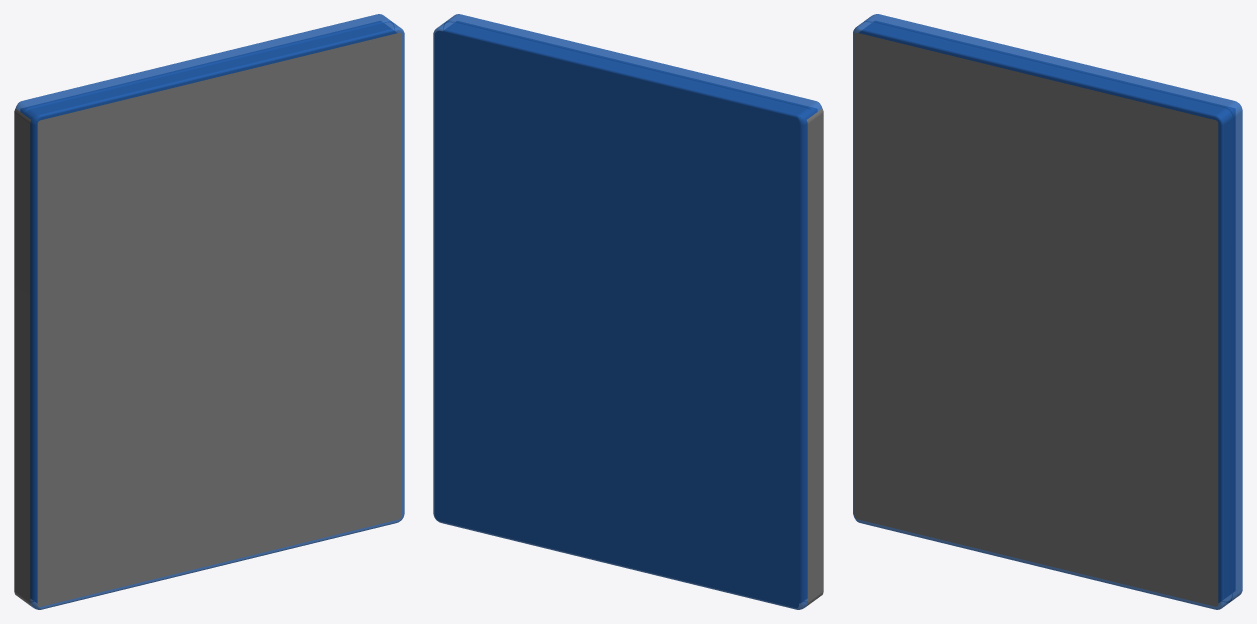
The model's file is box-film-bluray.glb.
The picture shows the model from 3 angles, left to right: view 1: azimuth 30°, elevation 25°; view 2: azimuth 150°, elevation 25°; view 3: azimuth 330°, elevation 25°; orthographic projection.
Visible parts, largest first — view 1: front, plastic, spine, edge, inner; view 2: back, plastic, spine, edge, inner; view 3: front, edge, plastic, inner.
Part boxes in pixels (box(x1,y1,x2,y2)): front: box(37, 33, 401, 606); plastic: box(15, 14, 404, 609); spine: box(14, 108, 30, 605); edge: box(18, 14, 400, 117); inner: box(21, 22, 395, 589); back: box(434, 30, 799, 608); plastic: box(433, 14, 822, 609); spine: box(807, 108, 823, 605); edge: box(437, 14, 819, 117); inner: box(445, 22, 816, 575); front: box(854, 32, 1218, 606); edge: box(857, 14, 1242, 607); plastic: box(853, 14, 1242, 609); inner: box(860, 24, 1234, 600).
Bounding box in the file's own units: 0.1352 × 0.1715 × 0.0132.
